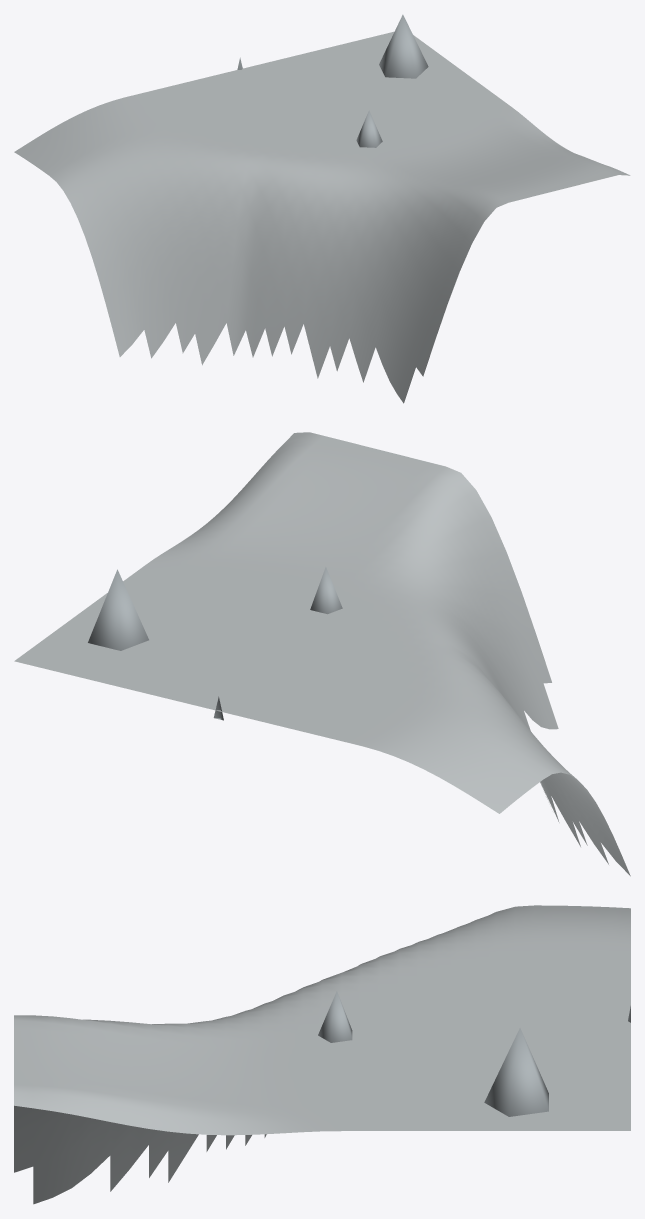
File: alpine-11-3.glb
3 renders of one model, top to bottom at view 1: azimuth 30°, elevation 25°; view 2: azimuth 150°, elevation 25°; view 3: azimuth 270°, elevation 25°, orthographic. The views are drawn at different scales.
Parts seen in each view (by area): view 1: alpine-11-3; view 2: alpine-11-3; view 3: alpine-11-3.
Boxes of the visible parts, x1,y1,x2,y2 form: alpine-11-3: (14, 14, 630, 403); alpine-11-3: (14, 432, 630, 876); alpine-11-3: (14, 905, 630, 1204).
Bounding box in the file's own units: 256 × 137 × 256.
Materials: 2 (2 with a texture image).
